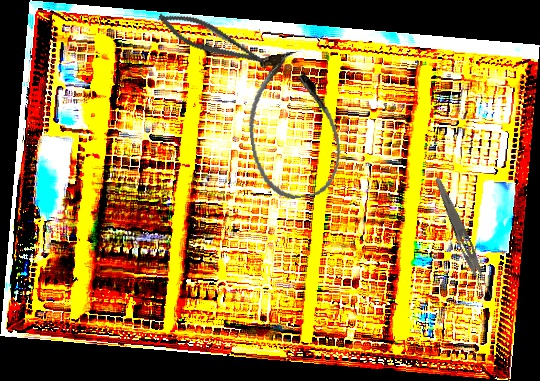Cannula: (238, 47, 347, 204)
Dressing Forceps: (429, 175, 496, 303)
Micro Scissor: (153, 5, 271, 72)
